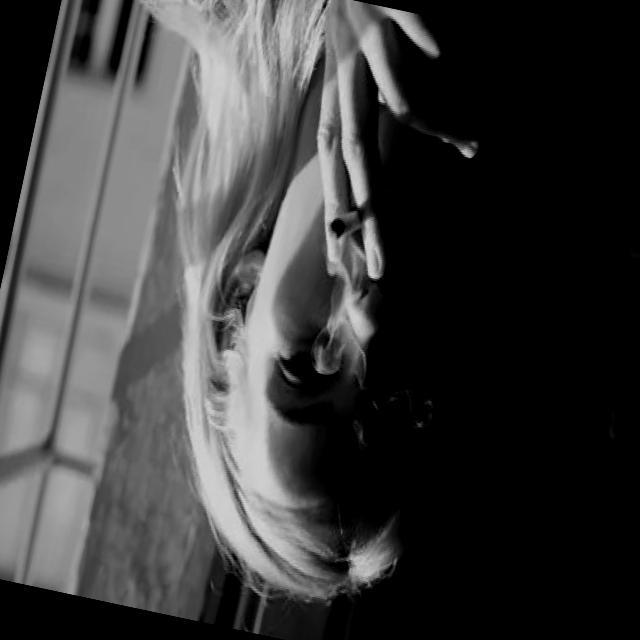smoke: (322, 198, 376, 252)
